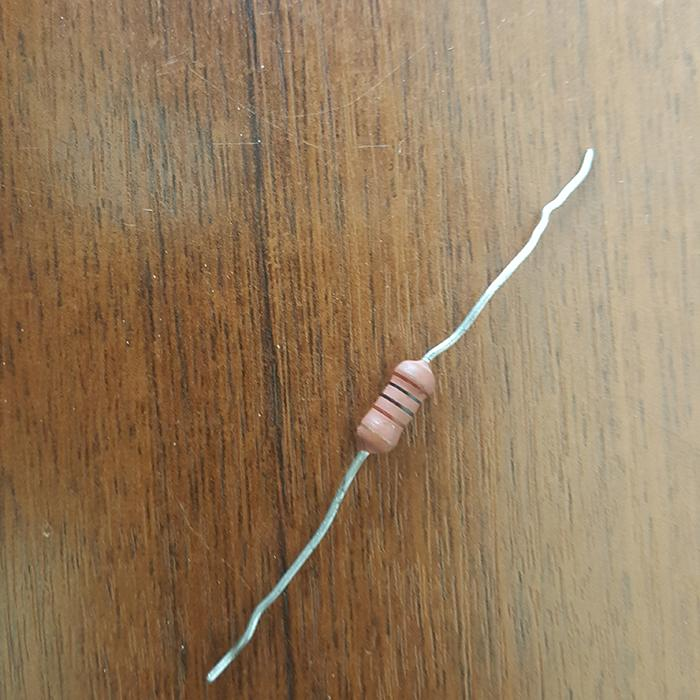resistor: (356, 357, 436, 454)
